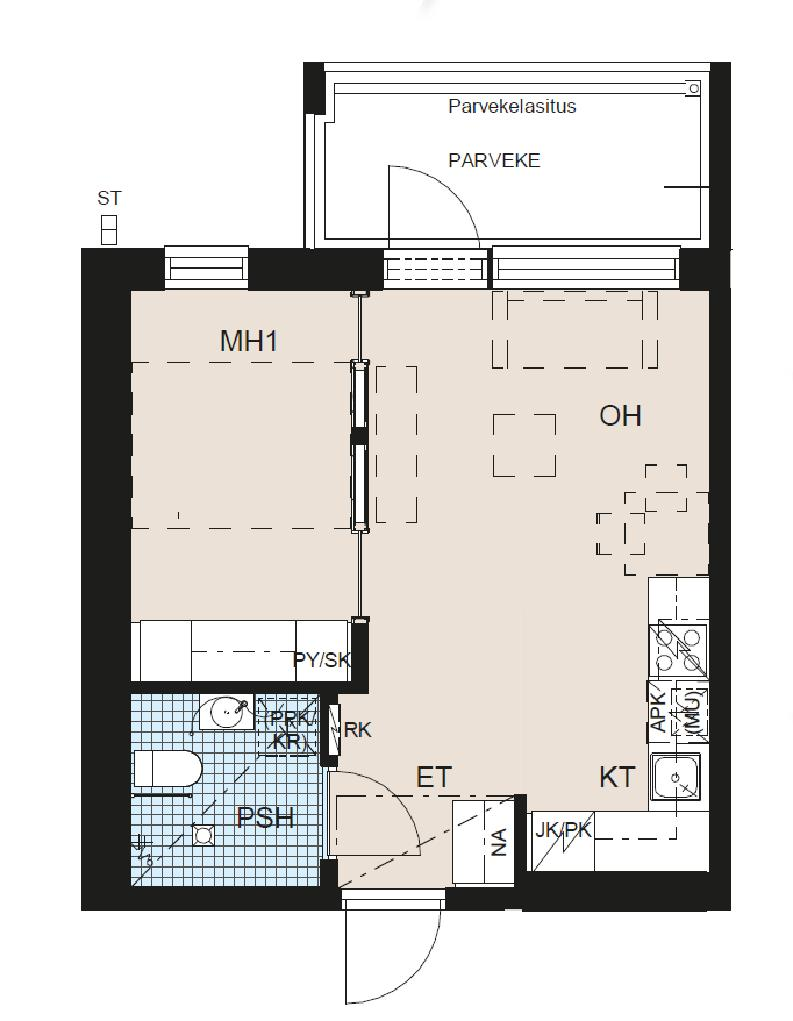door: (342, 887, 443, 1011), (318, 765, 421, 859), (385, 165, 480, 258)
window: (499, 248, 675, 291), (377, 253, 489, 290), (159, 250, 255, 288)
zone: (331, 282, 709, 885), (128, 295, 363, 681), (319, 62, 714, 255), (133, 688, 318, 871)
